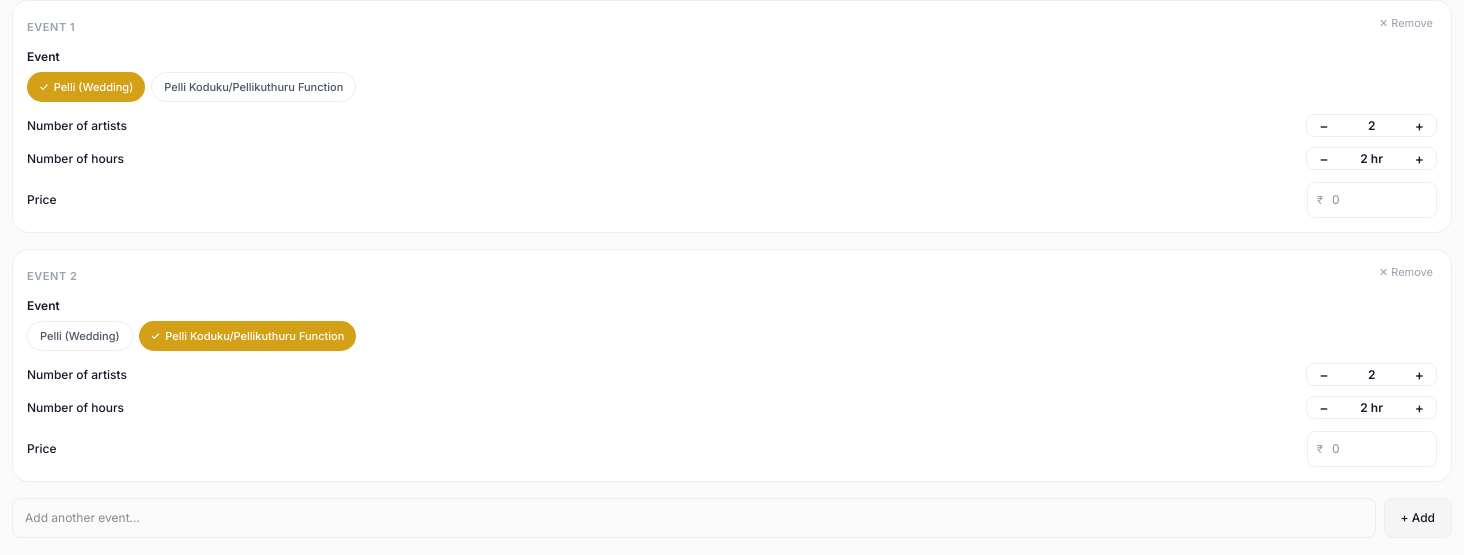
Test: BanjantriluPricingEditor › removes a card and steps artists up
The width and height of the screenshot is (1464, 555).
Note: Remove the second card.
Click the button with aria-label "Remove event 2" at (1406, 272), box 1375,264 -> 1437,280
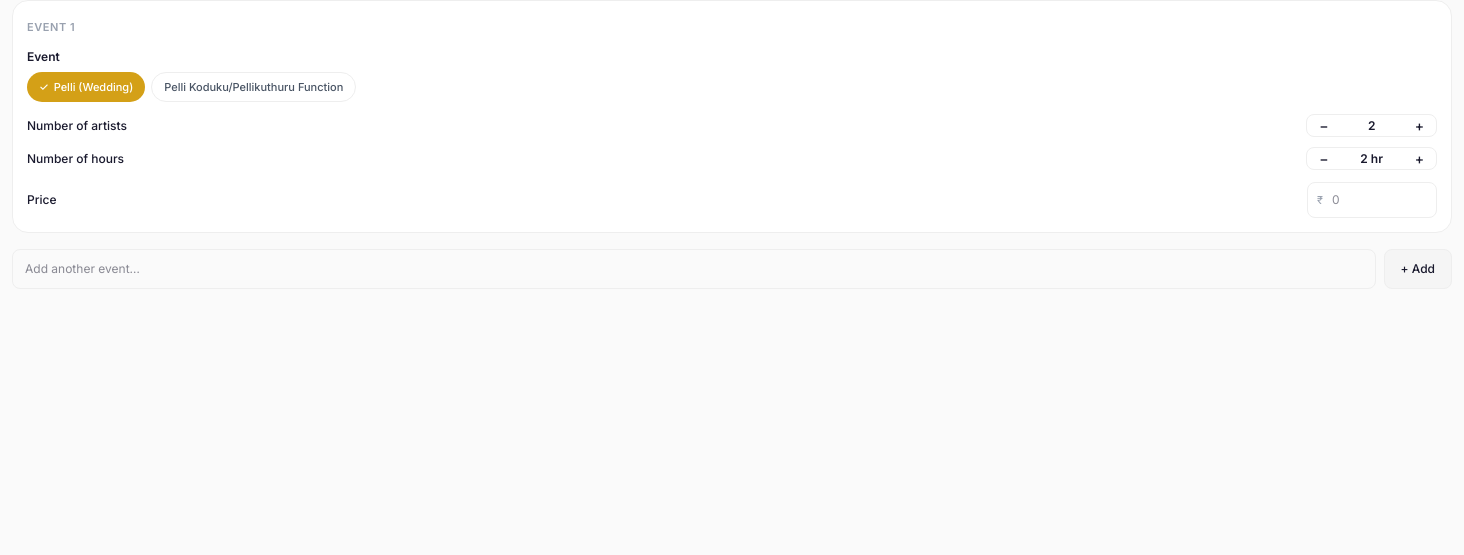
Check: the text "Event 2" is gone
Note: Bump artists on the remaining card via its +.
Click the button "+" in the row of "Number of artists" at (1419, 126), box 1403,115 -> 1436,136
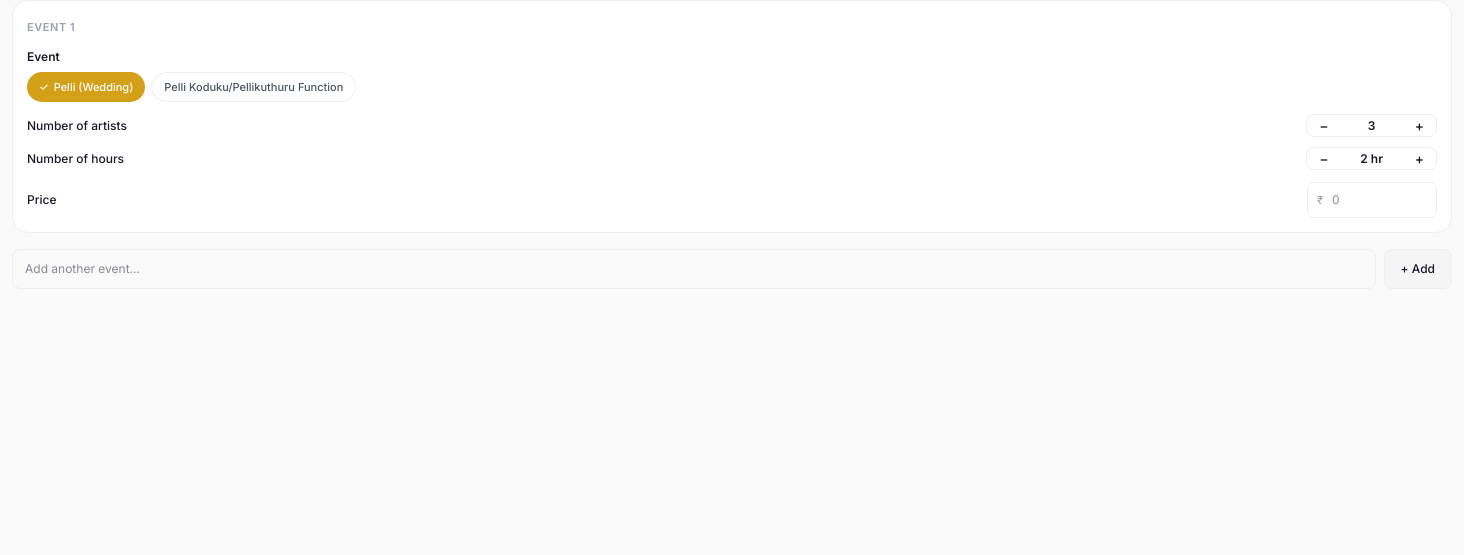
Check: the text "3" is shown, box 1368,118 -> 1375,132
